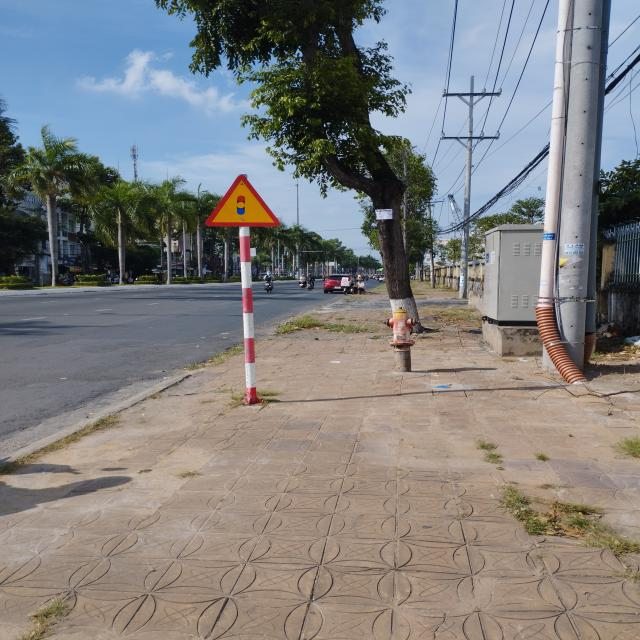Duong_Co_Go_Giam_Toc: (205, 176, 281, 227)
